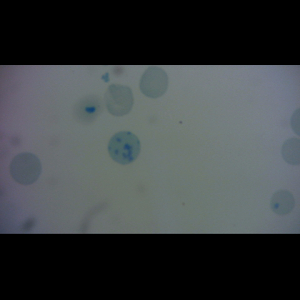aggregate reticulocyte: (107, 130, 142, 166)
erythrocyte: (8, 152, 43, 187), (138, 65, 170, 100), (104, 84, 136, 118), (270, 189, 295, 216)
